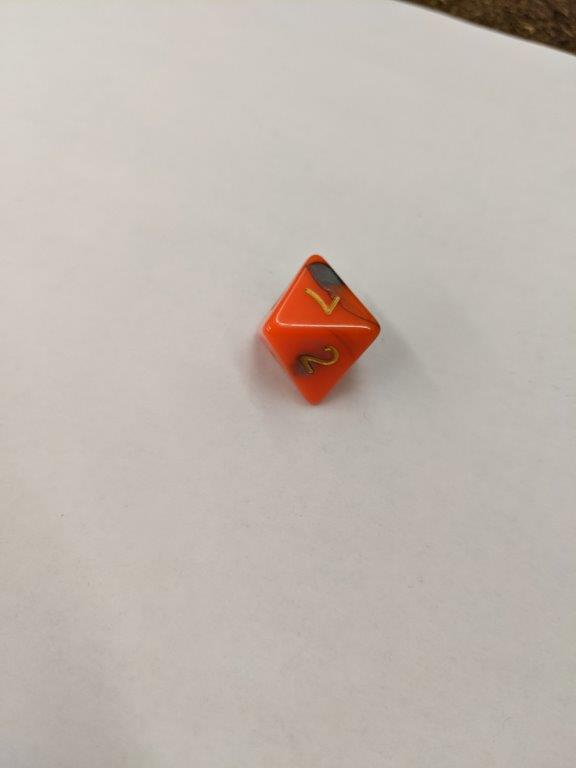d8-7: (260, 252, 383, 409)
